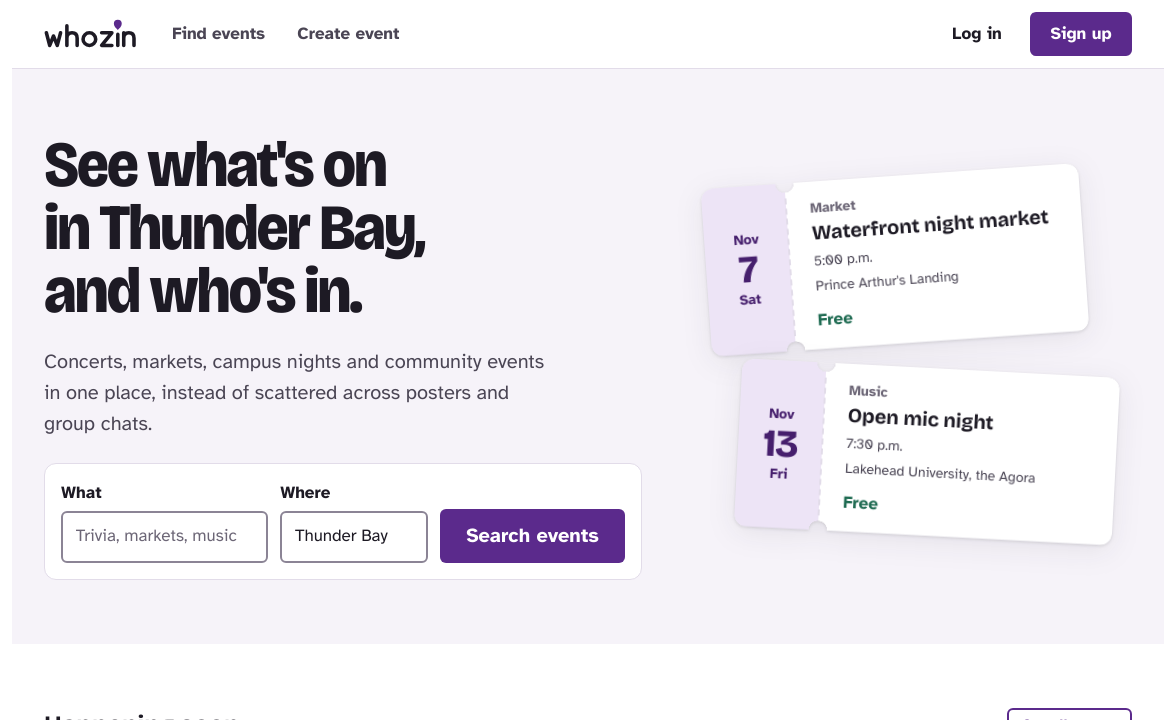
Test: homepage › goes to the search page without a query when both fields are empty
Clear the field labelled "Where" at (354, 537), box left=280, top=511, right=428, bottom=563
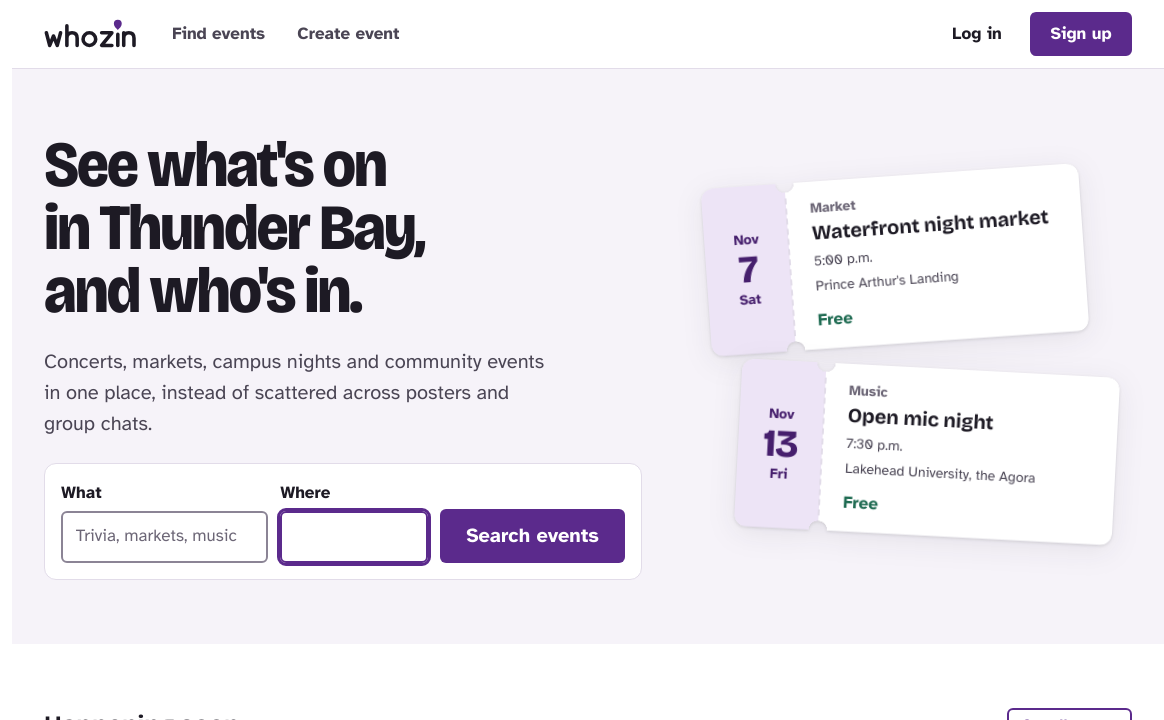
Click the button "Search events" at (533, 536), box left=440, top=509, right=625, bottom=563
(page scrolled)
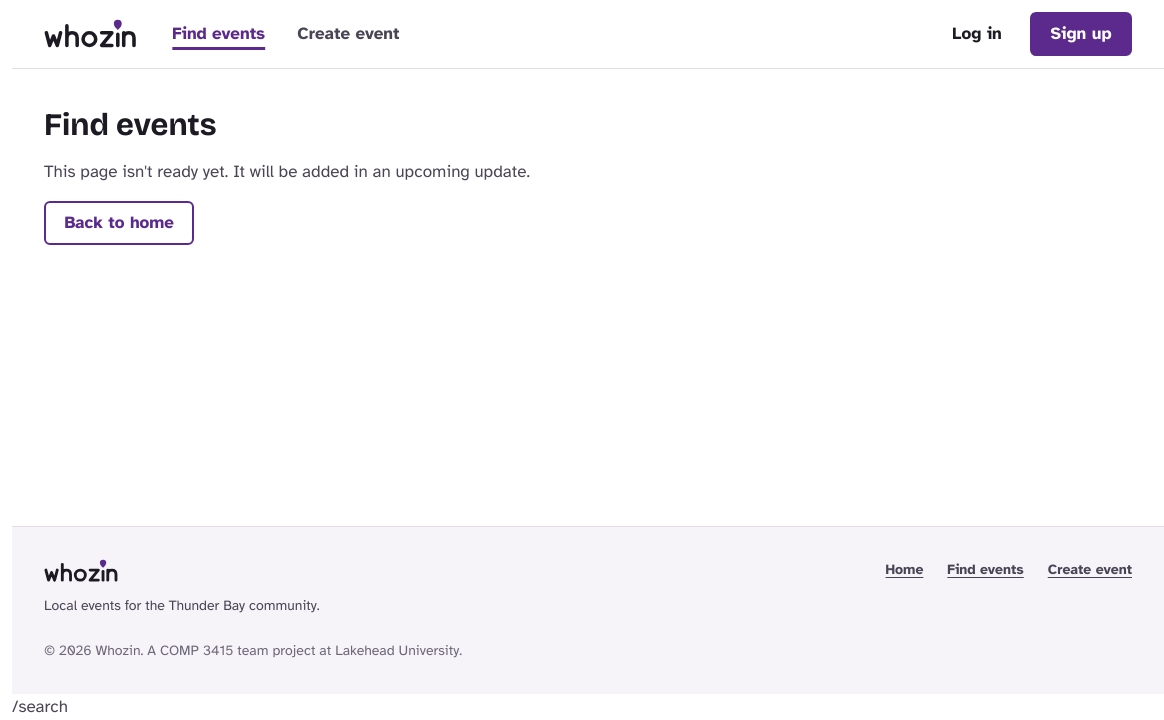
Now the text with test id "location" reads "/search", box left=12, top=696, right=68, bottom=717
